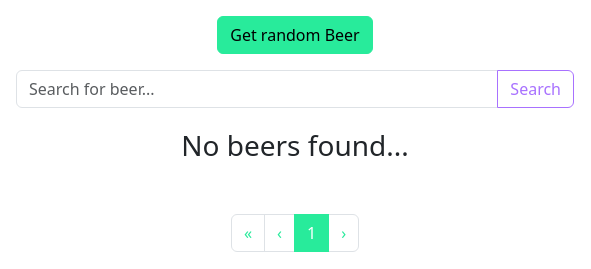
Test: Index › should go to next page
Expected: the element named "current page" reads "1", [307, 222, 316, 244]
Click the button named "next page": (344, 233) [328, 214, 359, 252]
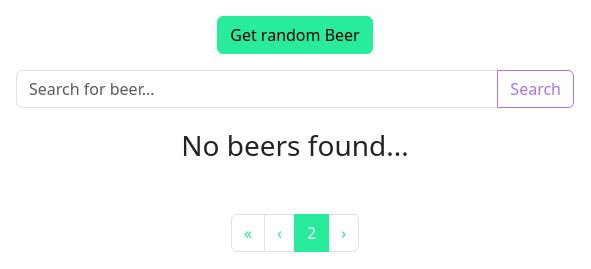
Result: the element named "current page" reads "2" at [307, 222, 316, 244]
